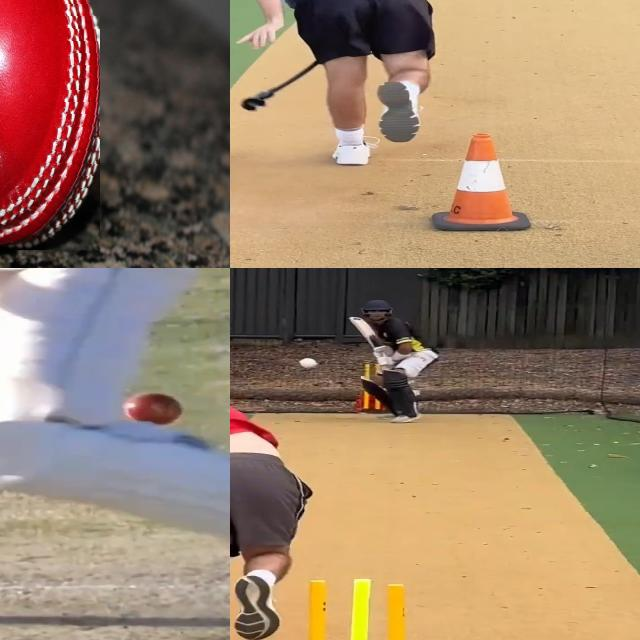Cricket ball: (0, 0, 99, 249), (118, 389, 185, 427), (296, 356, 319, 372)
Stumps: (291, 579, 425, 640)
